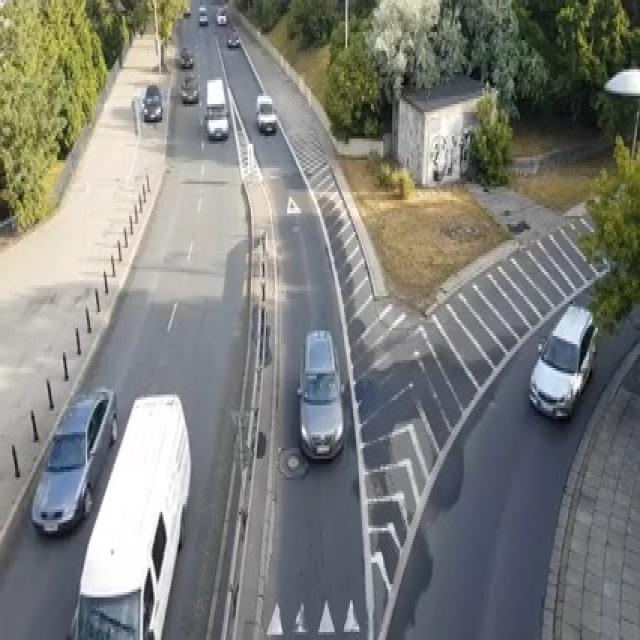bus: (68, 390, 190, 638)
car: (30, 384, 117, 536), (527, 302, 598, 422), (296, 328, 344, 461), (204, 77, 228, 139), (256, 94, 276, 134), (141, 83, 162, 120), (180, 72, 198, 101), (286, 195, 300, 232), (179, 45, 192, 67), (227, 29, 239, 48), (198, 3, 208, 24), (216, 5, 227, 24), (183, 5, 191, 16)
